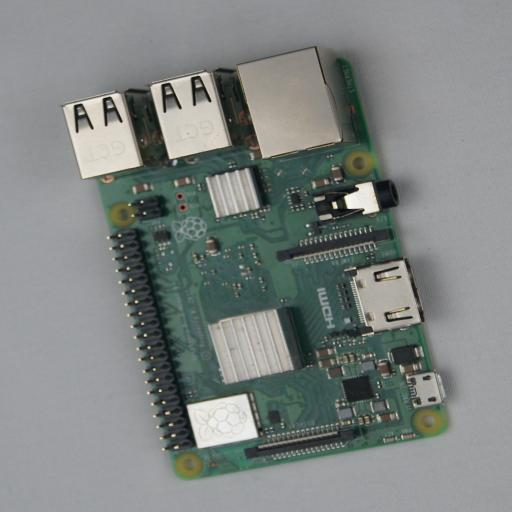Raspberry Pi 3 B-: (62, 46, 452, 478)
